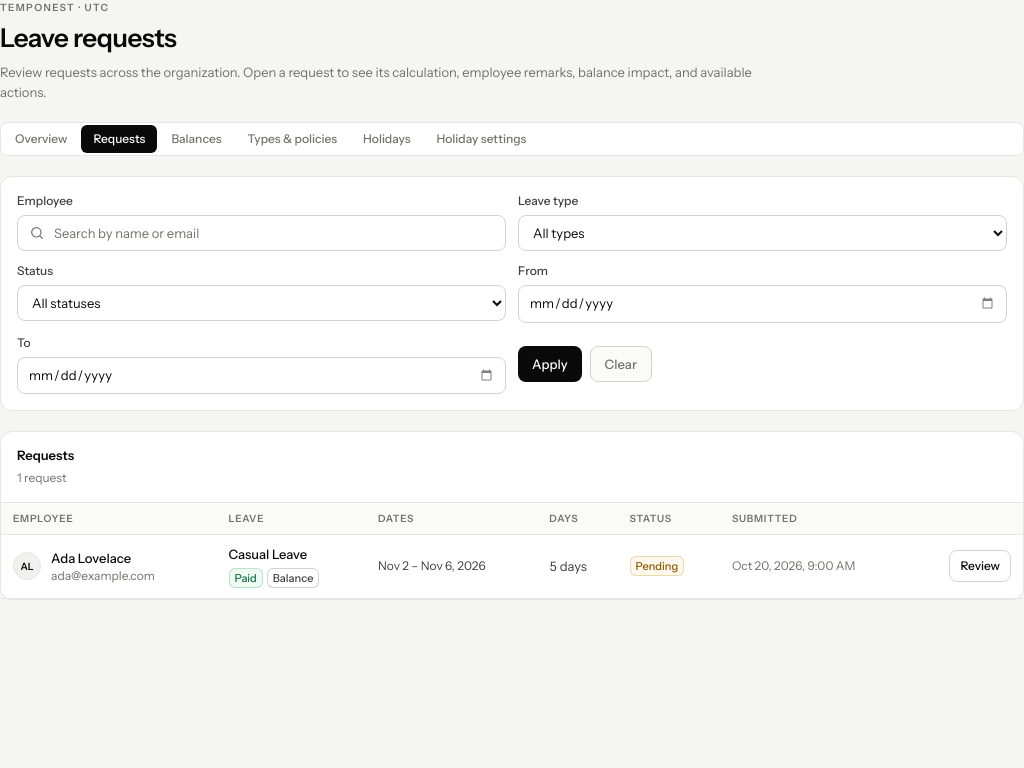
LeaveRequestsView › approves a request with an optional reviewer note
Expected: the table is shown, [1,502,1023,599]
Step 1. Click the button "Review" → coordinates (980, 566), box [950,550,1011,582]
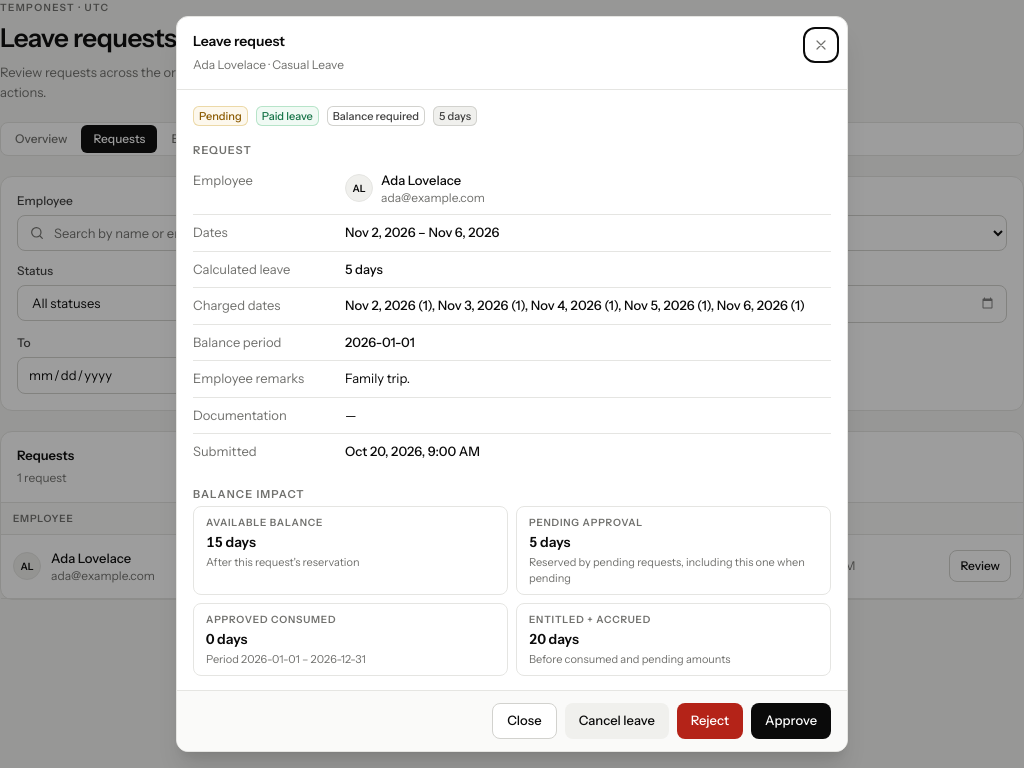
Expected: the heading "Leave request" is shown, [193,32,285,50]
Step 2. Click the button "Approve" → coordinates (791, 721), box [751,703,831,739]
(page scrolled)
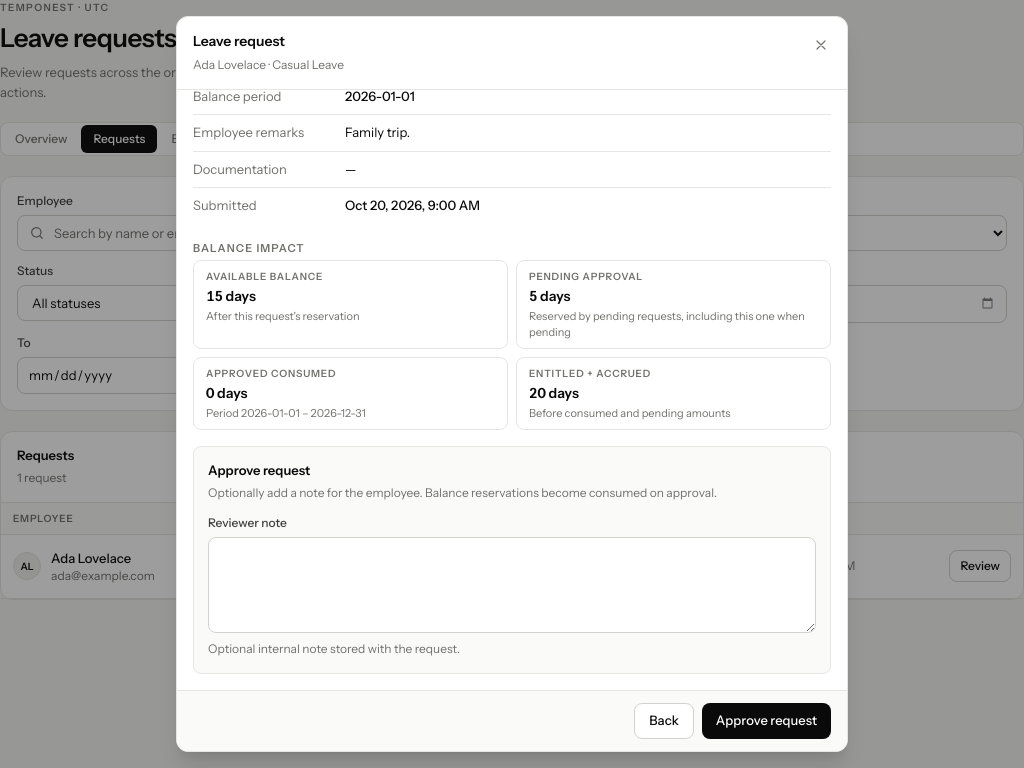
Step 3. Type "Coverage arranged." into the text box labelled "Reviewer note" → coordinates (512, 584), box [208,536,816,632]
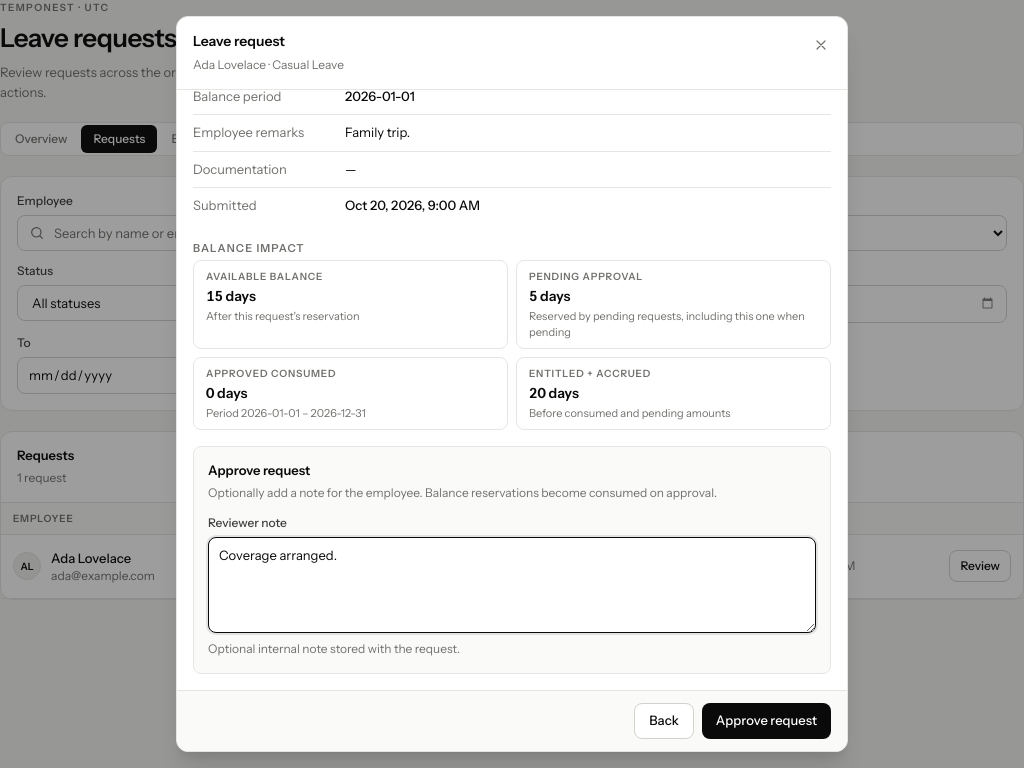
Step 4. Click the button "Approve request" → coordinates (766, 721), box [702,703,831,739]
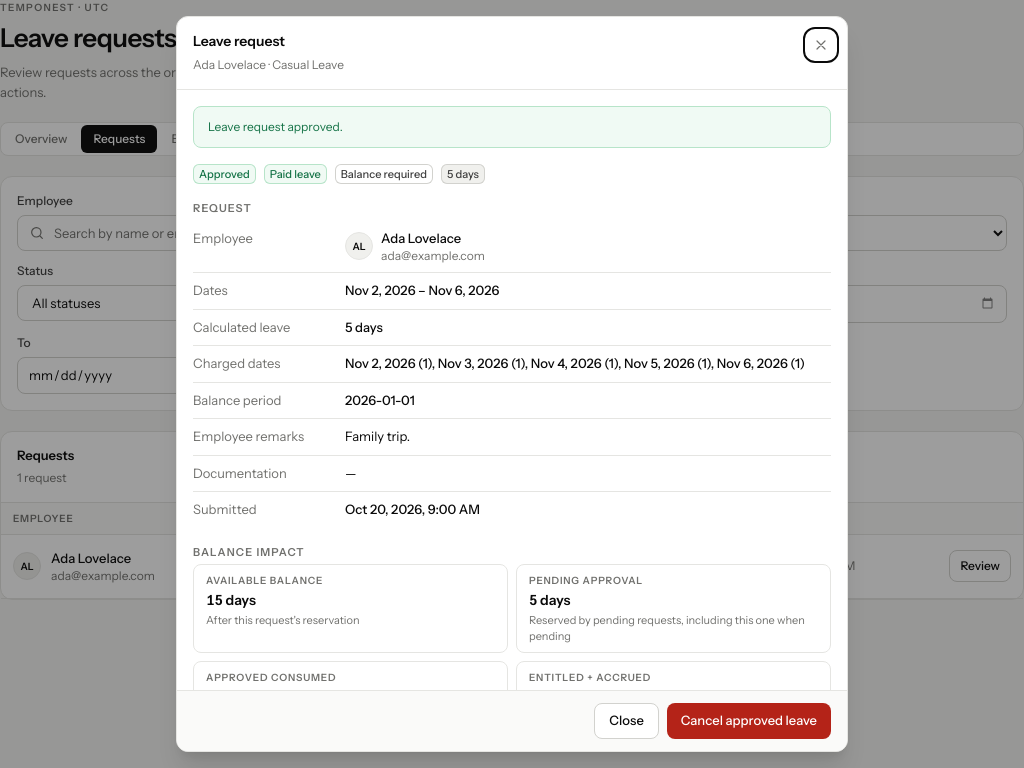
Expected: the text "Leave request approved." is shown, [208,119,343,134]
